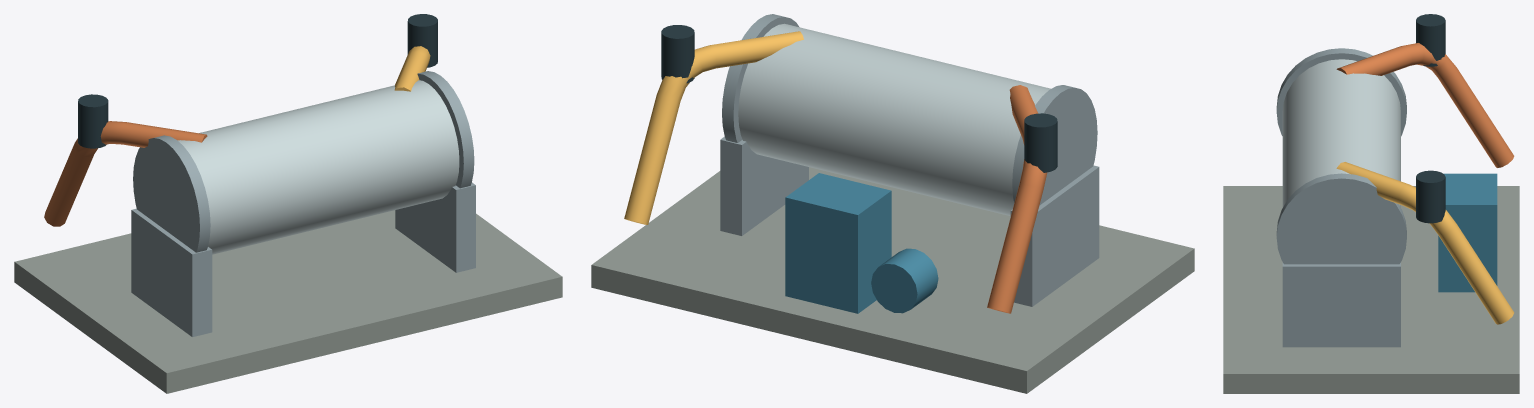
The model's file is oil_water_exchanger.glb.
The picture shows the model from 3 angles, left to right: view 1: azimuth 30°, elevation 25°; view 2: azimuth 150°, elevation 25°; view 3: azimuth 270°, elevation 25°; orthographic projection. The views are drawn at different scales.
Parts seen in each view (by area): view 1: Heat transfer skid, Isolated shell and tube, Vessel saddle, Bolted exchanger end, Vessel saddle.001, Separate hot fluid manifold, Bolted exchanger end.001, hot isolation valve, warm isolation valve, Separate warm fluid manifold; view 2: Heat transfer skid, Isolated shell and tube, AC pump controller, Vessel saddle, Separate warm fluid manifold, Vessel saddle.001, Bolted exchanger end, Separate hot fluid manifold, AC circulation pump, Bolted exchanger end.001, hot isolation valve, warm isolation valve; view 3: Heat transfer skid, Isolated shell and tube, Vessel saddle.001, Bolted exchanger end.001, AC pump controller, Separate hot fluid manifold, Separate warm fluid manifold, Bolted exchanger end, warm isolation valve, hot isolation valve.
Boxes of the visible parts, x1,y1,x2,y2 form: Heat transfer skid: (14, 210, 562, 393); Isolated shell and tube: (177, 80, 459, 254); Vessel saddle: (131, 208, 212, 337); Bolted exchanger end: (133, 135, 210, 252); Vessel saddle.001: (395, 182, 475, 272); Separate hot fluid manifold: (44, 121, 207, 226); Bolted exchanger end.001: (417, 71, 474, 188); hot isolation valve: (78, 94, 108, 148); warm isolation valve: (407, 14, 437, 67); Separate warm fluid manifold: (394, 46, 430, 91); Heat transfer skid: (591, 167, 1194, 393); Isolated shell and tube: (738, 23, 1050, 215); AC pump controller: (785, 173, 891, 313); Vessel saddle: (1010, 165, 1099, 306); Separate warm fluid manifold: (624, 31, 803, 224); Vessel saddle.001: (720, 137, 808, 235); Bolted exchanger end: (1012, 85, 1097, 205); Separate hot fluid manifold: (987, 85, 1047, 313); AC circulation pump: (871, 248, 938, 313); Bolted exchanger end.001: (722, 14, 799, 142); hot isolation valve: (1024, 113, 1057, 172); warm isolation valve: (661, 25, 694, 83); Heat transfer skid: (1223, 186, 1519, 393); Isolated shell and tube: (1282, 59, 1400, 207); Vessel saddle.001: (1282, 262, 1400, 347); Bolted exchanger end.001: (1276, 173, 1406, 264); AC pump controller: (1438, 173, 1497, 292); Separate hot fluid manifold: (1336, 43, 1514, 167); Separate warm fluid manifold: (1336, 162, 1514, 324); Bolted exchanger end: (1276, 48, 1406, 136); warm isolation valve: (1416, 170, 1445, 223); hot isolation valve: (1416, 14, 1445, 66).
Bounding box in the file's own units: 0.3 × 0.15 × 0.2.
